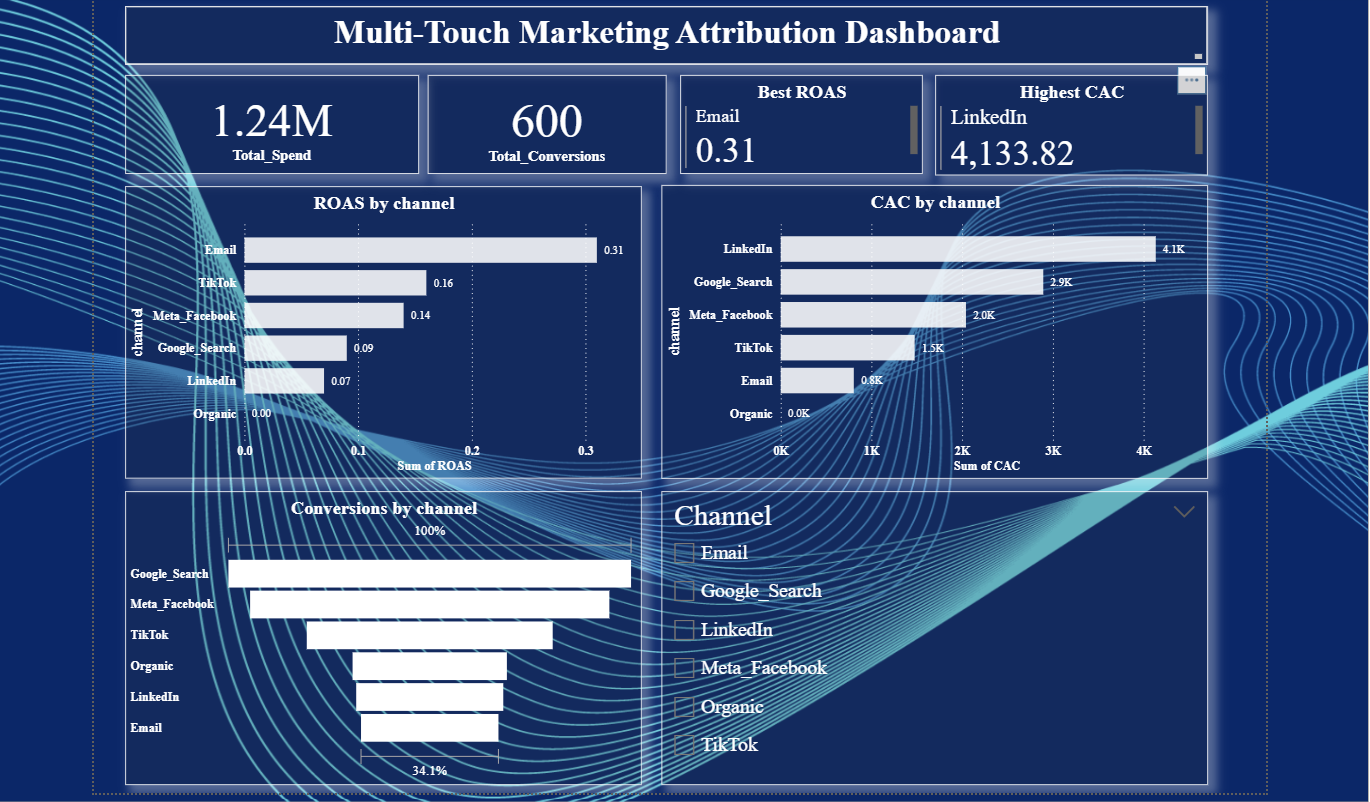

This screenshot's page, from the dashboard's own definition file:
{"tool":"powerbi","page":{"name":"Page 1","canvas":[1280,872],"ordinal":0},"visuals":[{"type":"clusteredBarChart","title":"ROAS by channel","fields":{"Category":["kpi_master_table.channel"],"Y":["Sum(kpi_master_table.ROAS)"]},"box":[32.9,52.1,564,319.7],"z":0},{"type":"clusteredBarChart","title":"CAC by channel","fields":{"Category":["kpi_master_table.channel"],"Y":["Sum(kpi_master_table.CAC)"]},"box":[639.5,52.1,595.5,321.1],"z":1000},{"type":"funnel","title":"Conversions by channel","fields":{"Y":["Sum(kpi_master_table.total_conversions)"],"Category":["kpi_master_table.channel"]},"box":[32.9,436.4,564,321.1],"z":2000},{"type":"slicer","title":"Channel Slicer","fields":{"Values":["kpi_master_table.channel"]},"box":[639.5,436.4,595.5,321.1],"z":3000}]}

Visuals, with their boxes on the page's 1280x872 design canvas (x1, y1, x2, y2). These are canvas units, not pixel positions in the 1370x802 screenshot, which may show the page scaled, cropped or inside an application window:
"ROAS by channel" clusteredBarChart: (33,52,597,372)
"CAC by channel" clusteredBarChart: (640,52,1235,373)
"Conversions by channel" funnel: (33,436,597,758)
"Channel Slicer" slicer: (640,436,1235,758)
